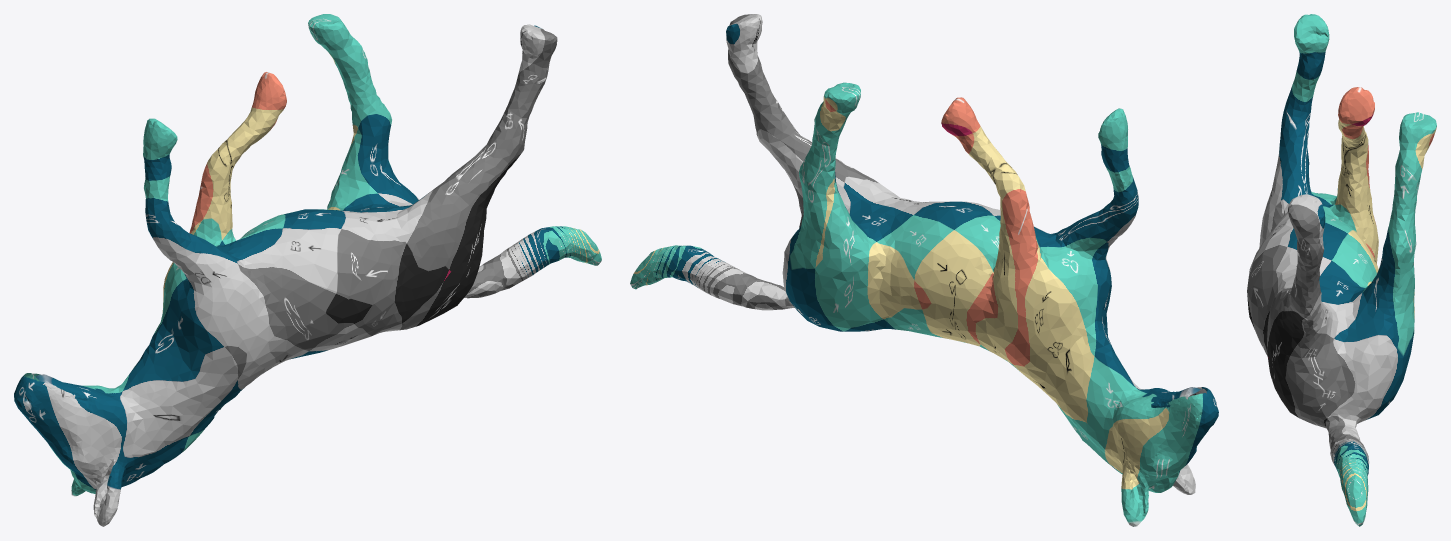
Rendered from hippo_06-horse_02.obj.
3 views of the same model, side by side, from view 1: azimuth 30°, elevation 25°; view 2: azimuth 150°, elevation 25°; view 3: azimuth 270°, elevation 25° (orthographic). The views are drawn at different scales.
Parts seen in each view (by area): view 1: hippo_06-horse_02_export; view 2: hippo_06-horse_02_export; view 3: hippo_06-horse_02_export.
Boxes of the visible parts, x1,y1,x2,y2 form: hippo_06-horse_02_export: [14, 14, 601, 526]; hippo_06-horse_02_export: [630, 14, 1218, 526]; hippo_06-horse_02_export: [1247, 14, 1436, 526].
Size of the model in its own units: 1.21 by 0.7725 by 0.3328.
